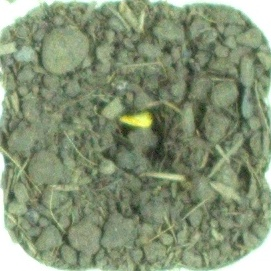chilli seed: (117, 110, 154, 129)
